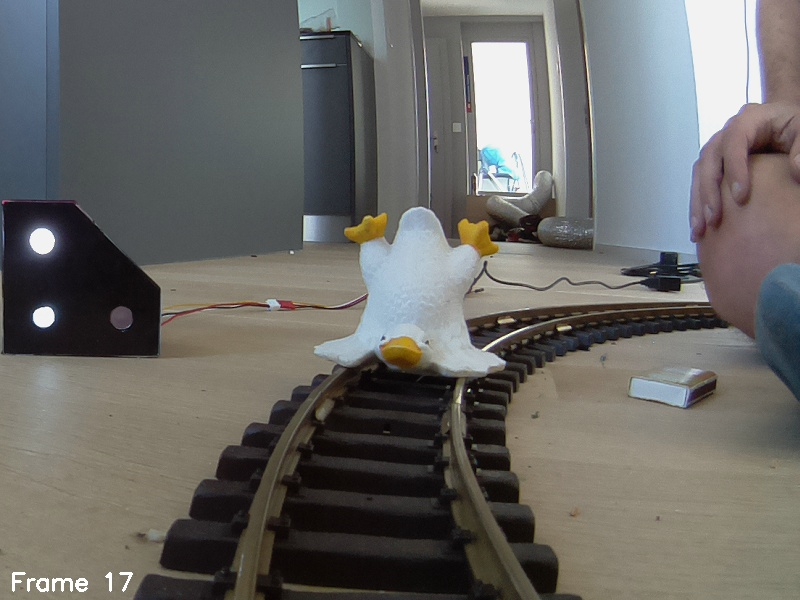Ente: (296, 202, 514, 394)
Fahrt: (1, 199, 166, 365)
